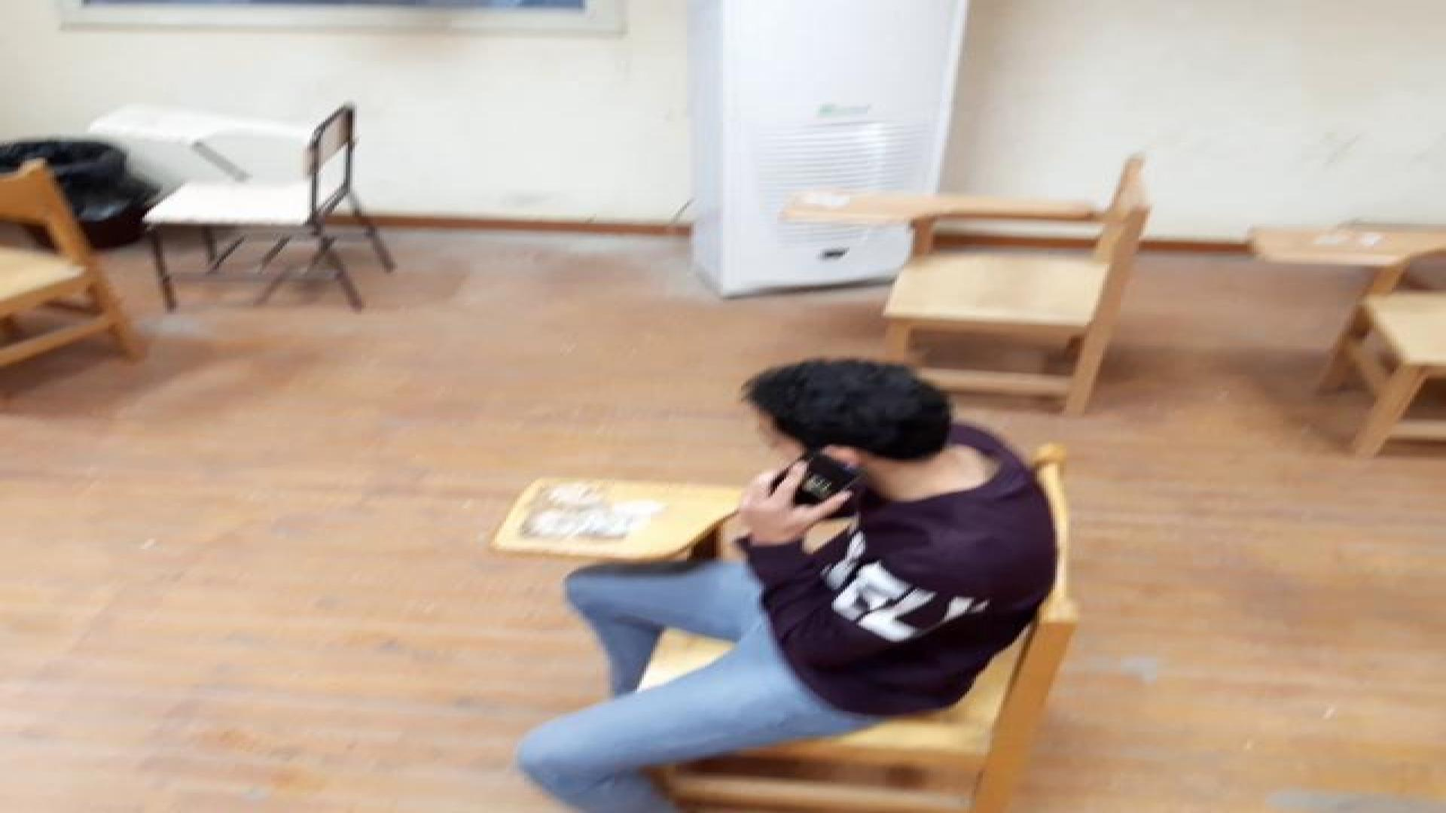phone: (801, 452, 864, 504)
